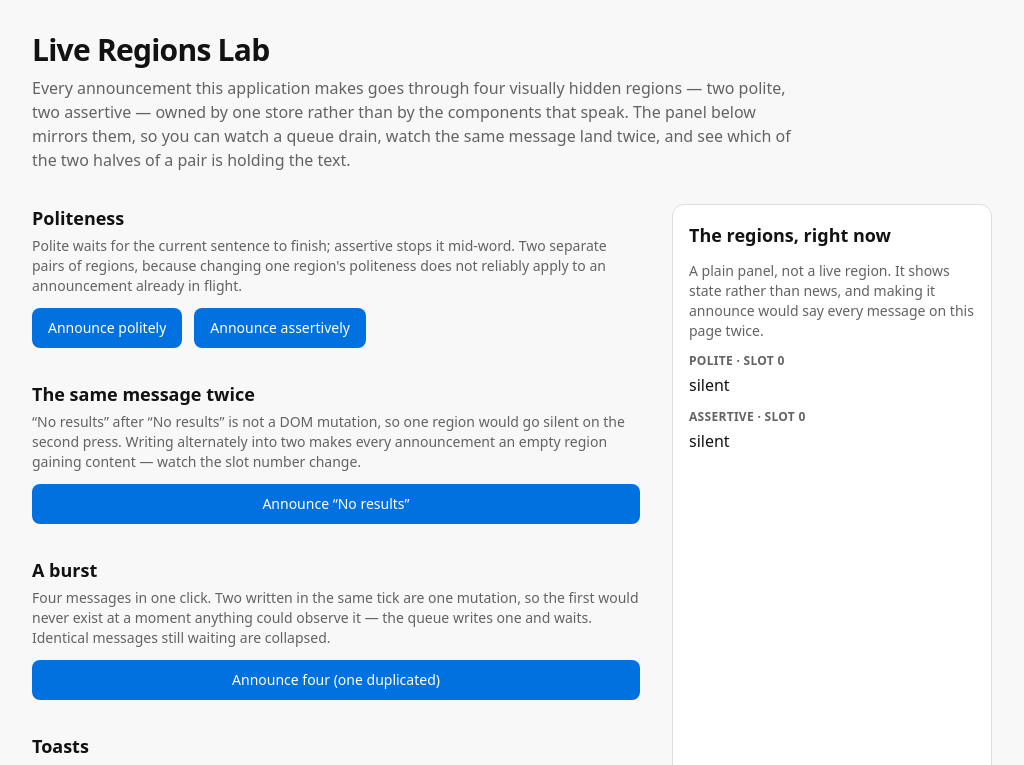
<LiveRegionsLabPage> › announces the same message twice, from alternating slots
Click the button with test id "announce-repeat" at (336, 504), box [32,484,640,524]
Wait 150 ms
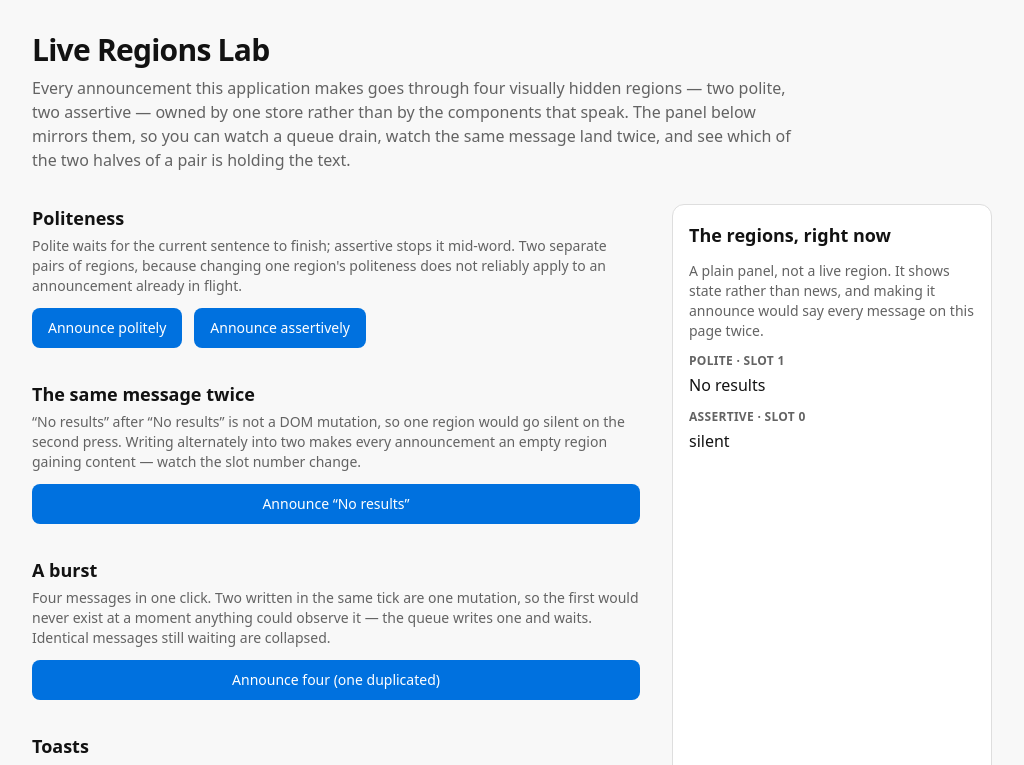
Check: the text with test id "mirror-polite-slot" reads "1", box [778,352,785,369]
Click the button with test id "announce-repeat" at (336, 504), box [32,484,640,524]
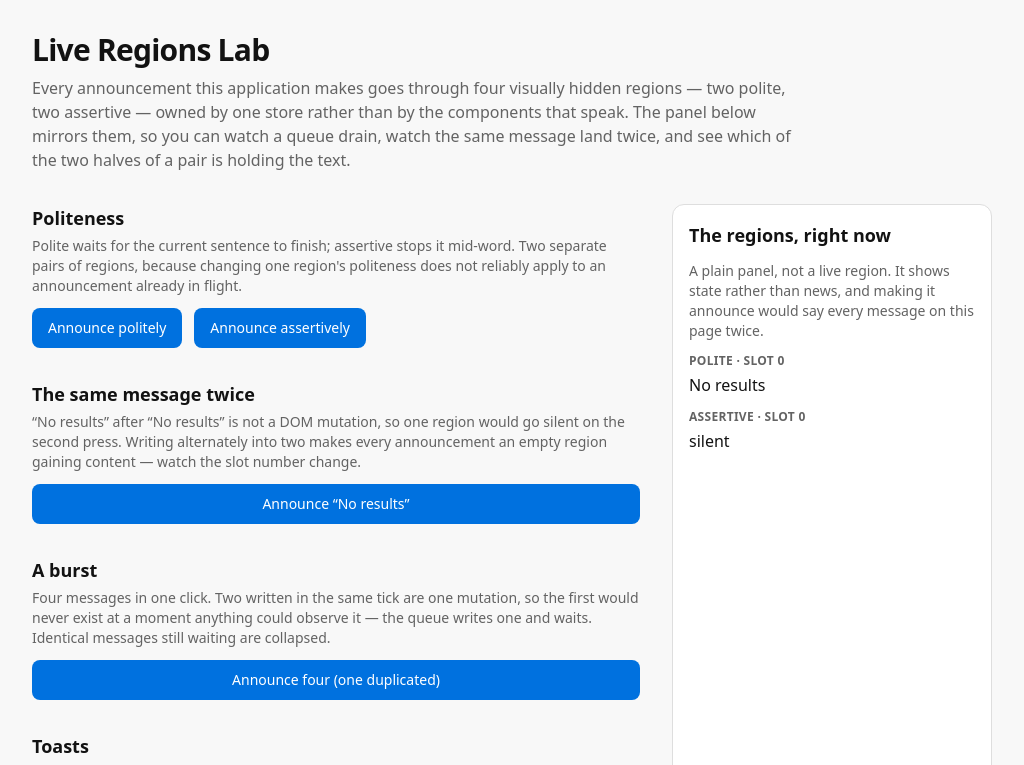
Check: the text with test id "mirror-polite-slot" reads "0", box [778,352,785,369]
